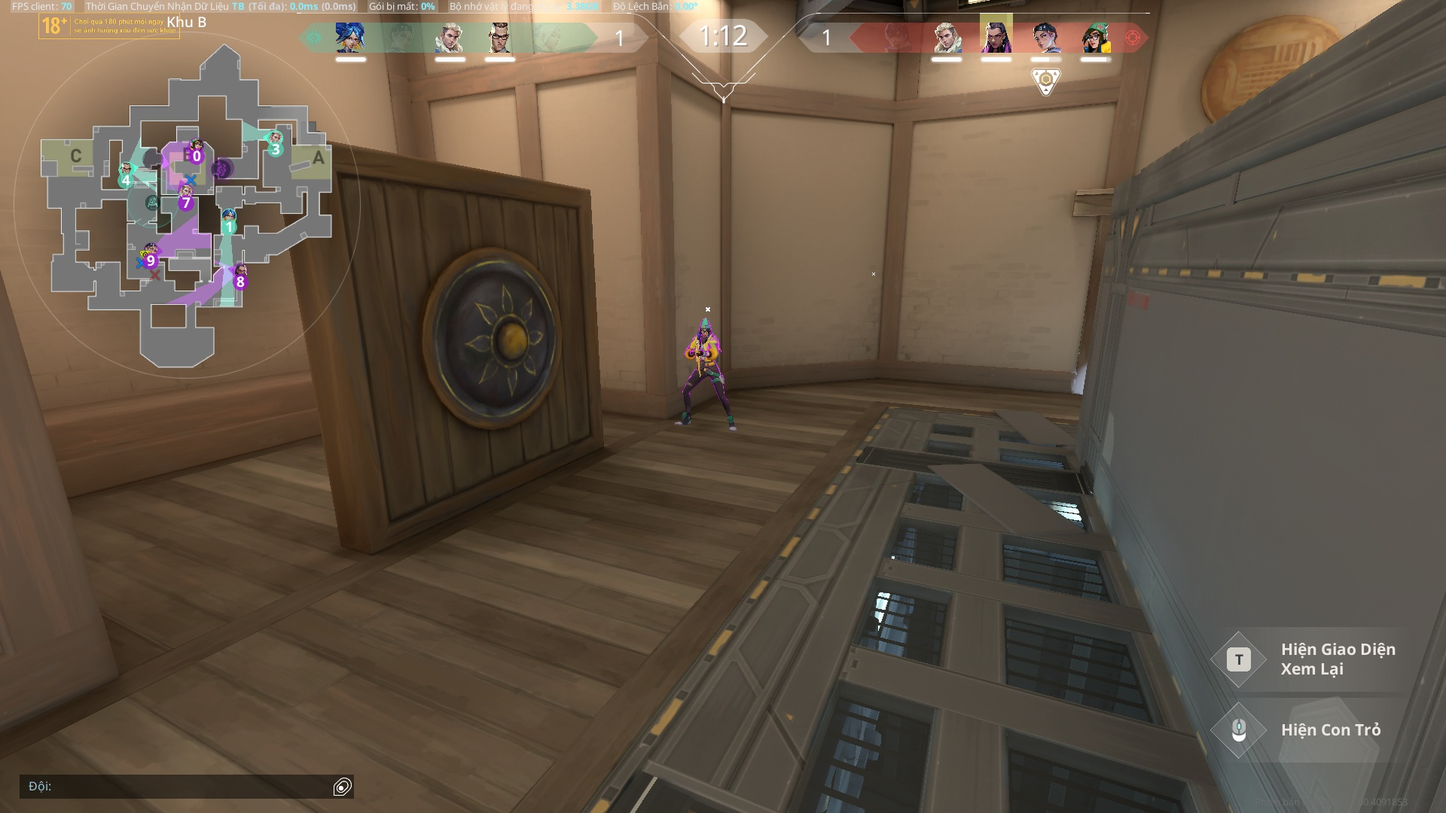body: (689, 333, 720, 361)
head: (698, 323, 712, 336)
